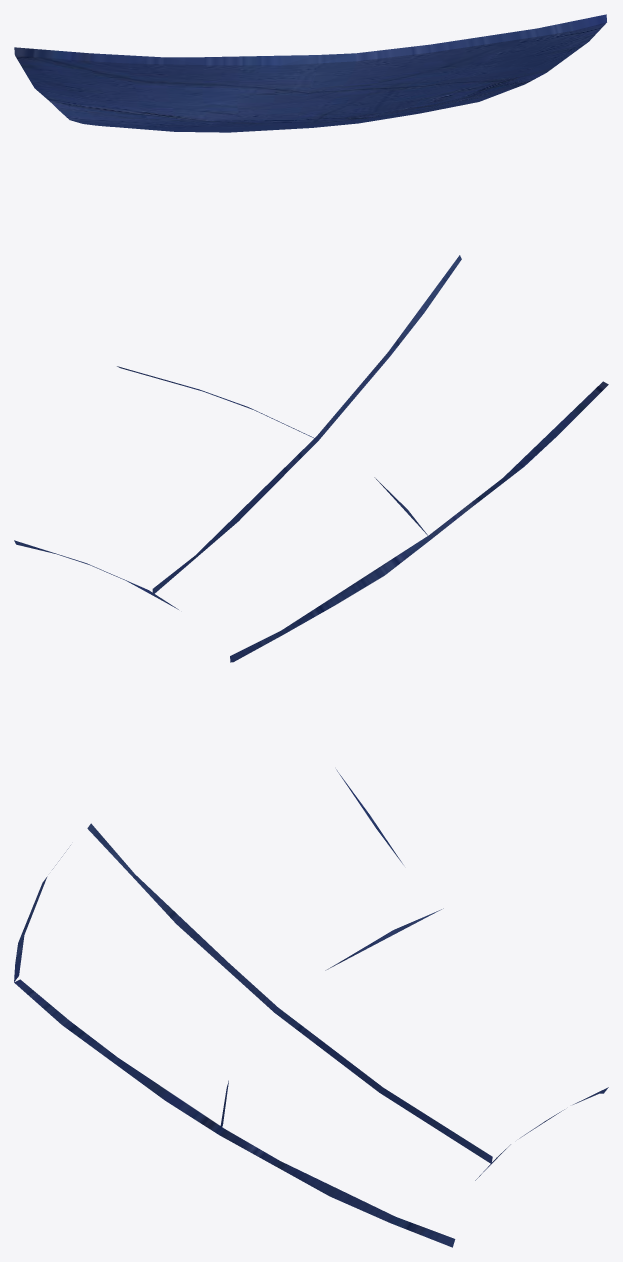
The picture shows the model from 3 angles, top to bottom: view 1: azimuth 30°, elevation 25°; view 2: azimuth 150°, elevation 25°; view 3: azimuth 270°, elevation 25°; orthographic projection. The views are drawn at different scales.
Bounding box in the file's own units: 3231498 × 1436816 × 2826896.
Materials: 1 (1 with a texture image).
